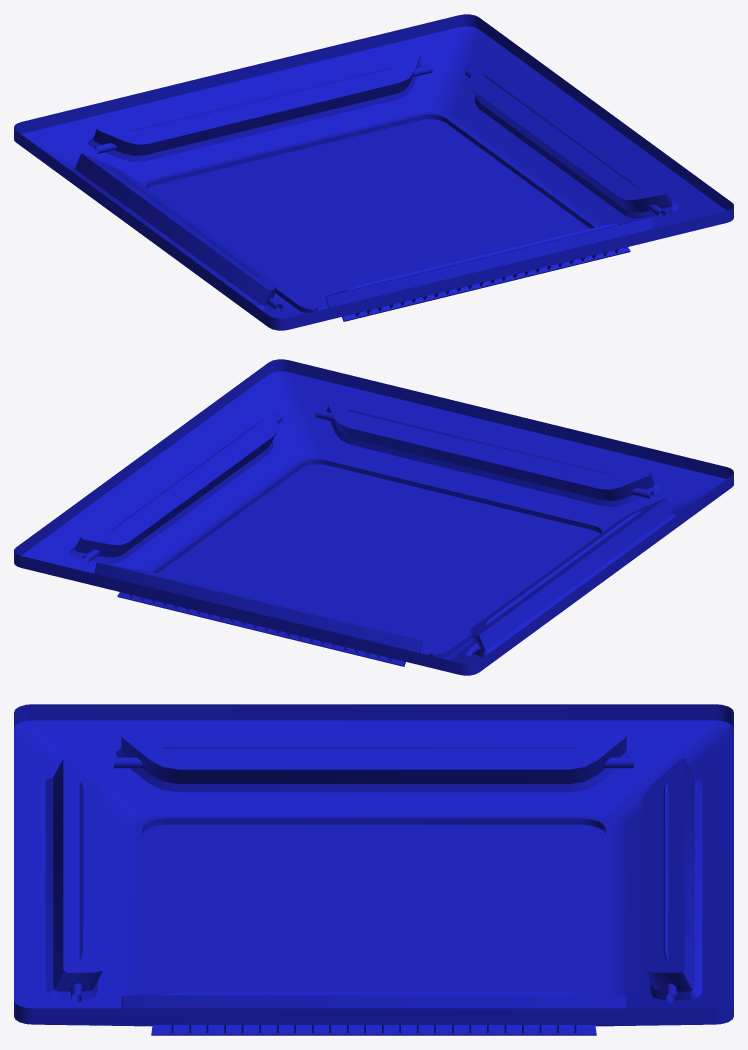
3 renders of one model, top to bottom at view 1: azimuth 30°, elevation 25°; view 2: azimuth 150°, elevation 25°; view 3: azimuth 270°, elevation 25°, orthographic. The views are drawn at different scales.
Parts seen in each view (by area): view 1: AC_1; view 2: AC_1; view 3: AC_1.
Boxes of the visible parts, x1,y1,x2,y2 form: AC_1: [14, 14, 733, 330]; AC_1: [14, 359, 733, 675]; AC_1: [14, 704, 733, 1035].
Size of the model in its own units: 130 by 13.23 by 130.
